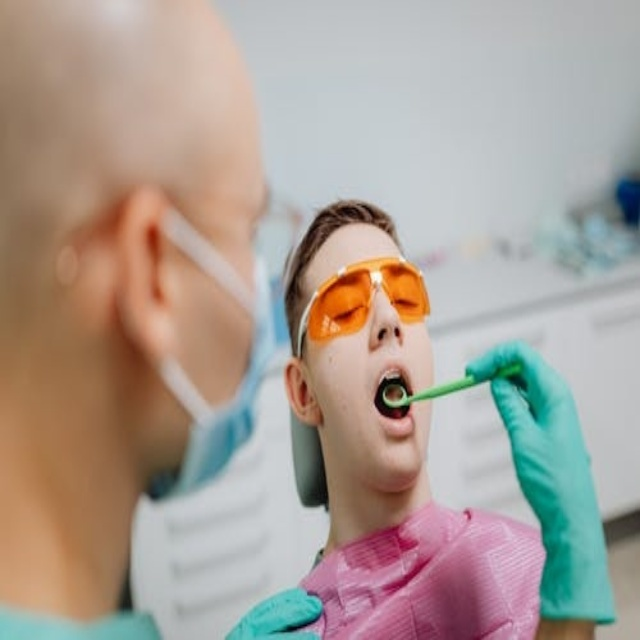Gafas: (45, 171, 305, 286), (287, 244, 438, 375)
Guantes: (461, 339, 617, 627), (219, 586, 325, 639)
Mascara: (149, 244, 283, 501)
Sin_mascara: (349, 356, 433, 471)
